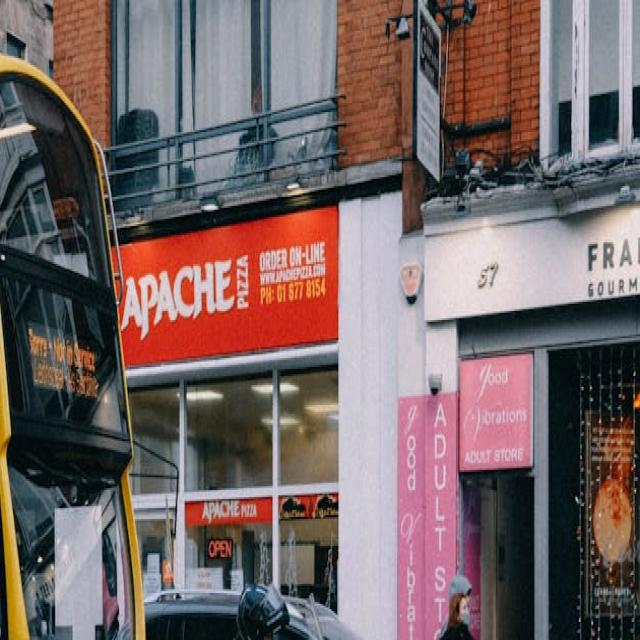bus: (0, 54, 148, 640)
car: (146, 586, 524, 640)
motorbike: (146, 580, 412, 640)
